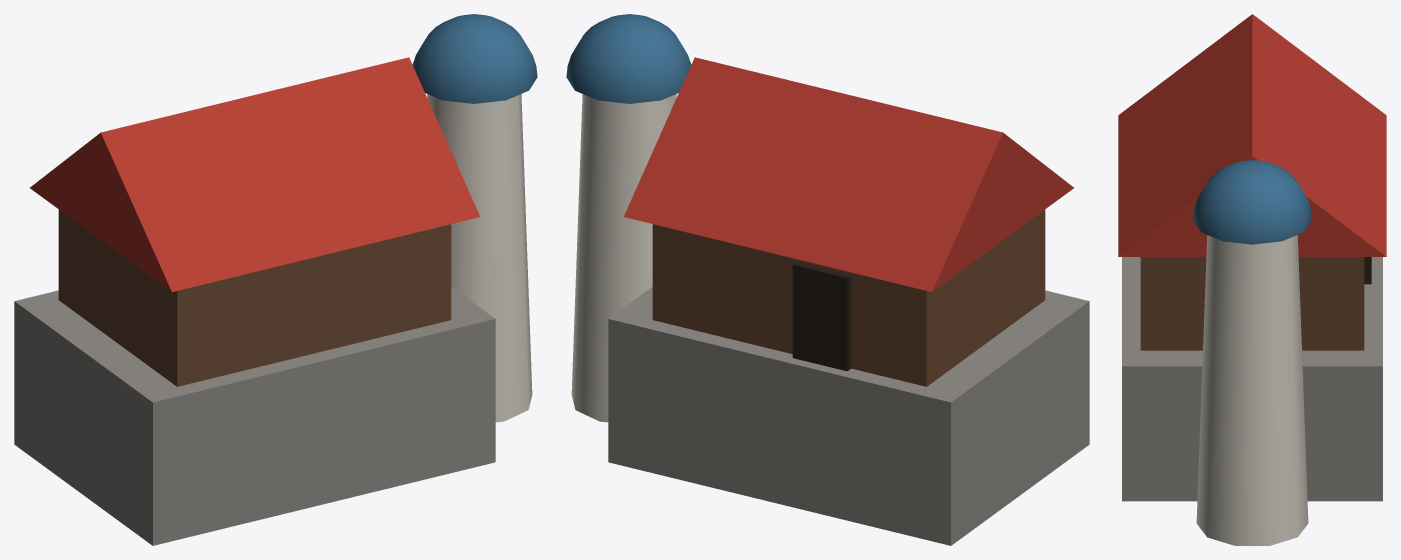
Rendered from summit-hut.glb.
3 views of the same model, side by side, from view 1: azimuth 30°, elevation 25°; view 2: azimuth 150°, elevation 25°; view 3: azimuth 270°, elevation 25° (orthographic). The views are drawn at different scales.
Size of the model in its own units: 13 by 10.6 by 7.2.
